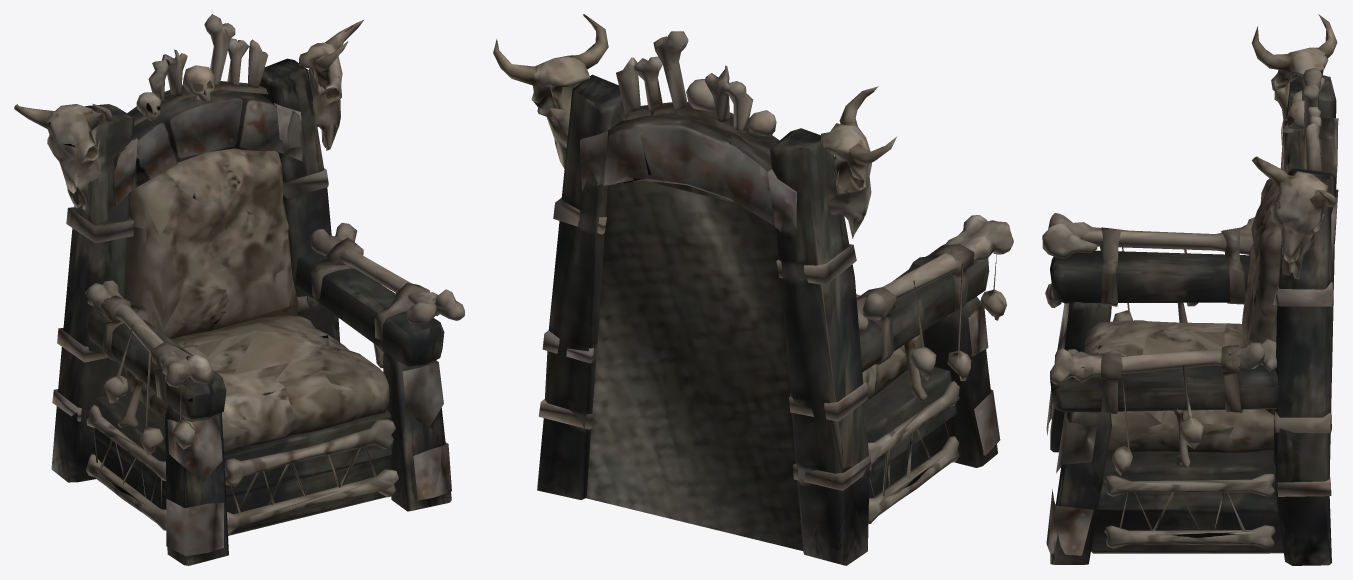
The model's file is KolossTrono.glb.
The picture shows the model from 3 angles, left to right: view 1: azimuth 30°, elevation 25°; view 2: azimuth 150°, elevation 25°; view 3: azimuth 270°, elevation 25°; orthographic projection. The views are drawn at different scales.
Parts seen in each view (by area): view 1: KolossTrono; view 2: KolossTrono; view 3: KolossTrono.
Boxes of the visible parts, box(x1,y1,x2,y2) form: KolossTrono: box(14, 14, 464, 565); KolossTrono: box(493, 14, 1013, 565); KolossTrono: box(1042, 14, 1338, 565).
Size of the model in its own units: 2.93 by 3.4 by 2.08.
Materials: 1 (1 with a texture image).
